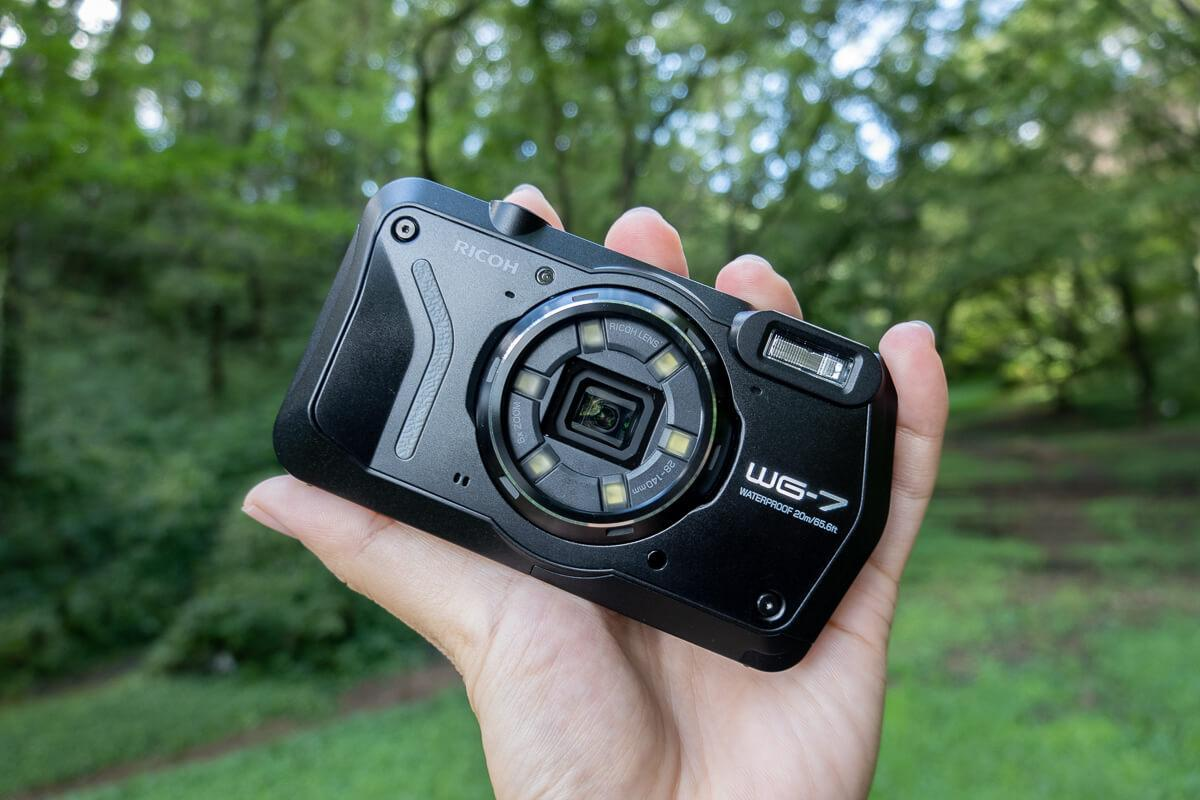degital-camera: (267, 173, 904, 673)
